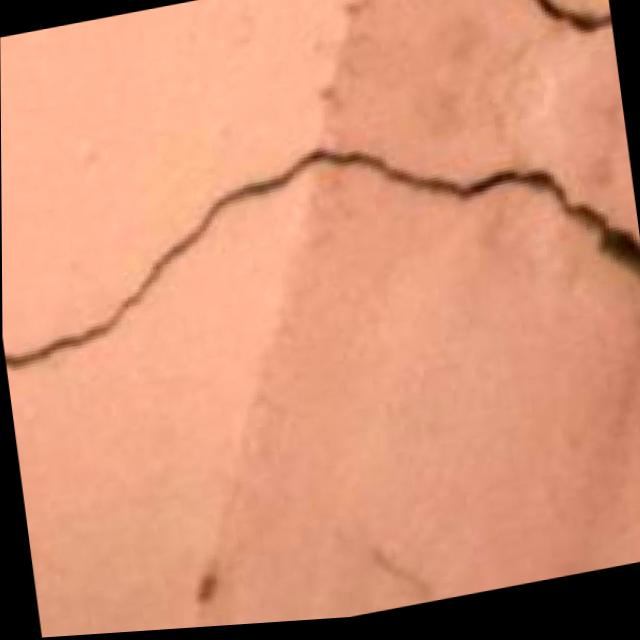Crack: (1, 92, 640, 432), (390, 0, 614, 86)
